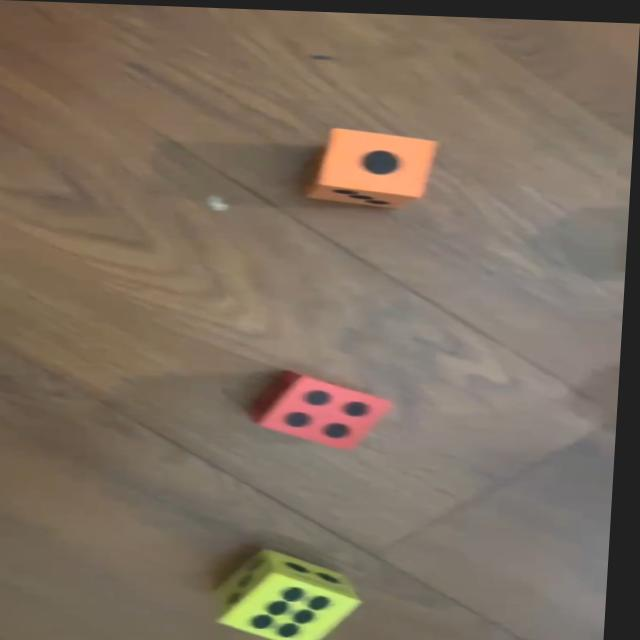cube: (252, 366, 403, 448)
